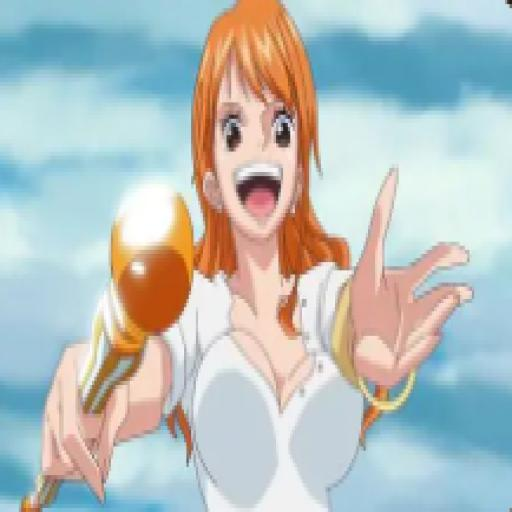Nami: (26, 0, 484, 512)
